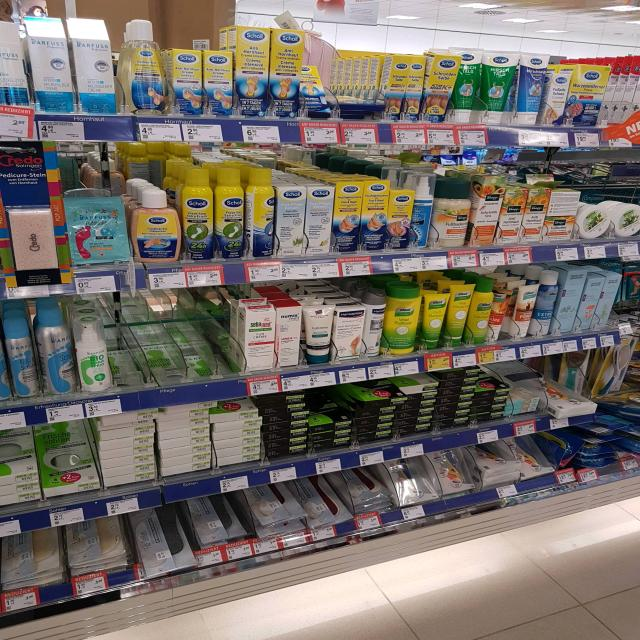empty: (118, 293, 234, 393)
